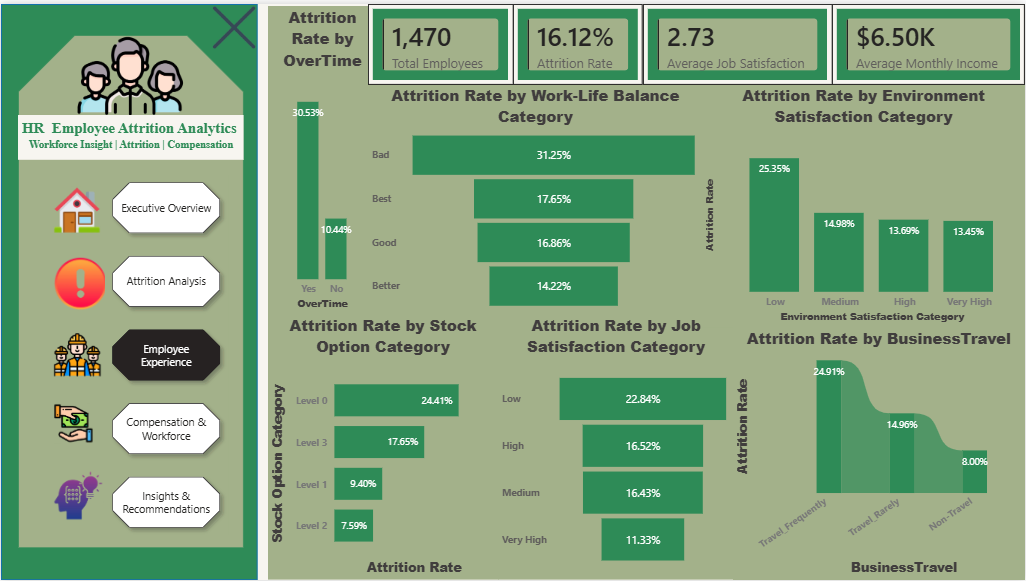

What the dashboard file says about the page in this screenshot:
{"tool":"powerbi","page":{"name":"Employee Experience","canvas":[1280,720],"ordinal":2},"visuals":[{"type":"columnChart","fields":{"Category":["employee_attrition.OverTime"],"Y":["DAX Measures.Attrition Rate"]},"box":[333.4,2.5,136.1,385.5],"z":0},{"type":"funnel","fields":{"Category":["employee_attrition.Job Satisfaction Category"],"Y":["DAX Measures.Attrition Rate"]},"box":[620.9,388.1,295.2,332.1],"z":1000},{"type":"columnChart","fields":{"Category":["employee_attrition.Environment Satisfaction Category"],"Y":["DAX Measures.Attrition Rate"]},"box":[876.2,100,403.8,303.8],"z":2000},{"type":"funnel","fields":{"Category":["employee_attrition.Work-Life Balance Category"],"Y":["DAX Measures.Attrition Rate"]},"box":[458.3,100.5,418.4,287.7],"z":3000},{"type":"ribbonChart","fields":{"Category":["employee_attrition.BusinessTravel"],"Y":["DAX Measures.Attrition Rate"]},"box":[915.3,403.3,364.7,316.6],"z":4000},{"type":"clusteredBarChart","fields":{"Category":["employee_attrition.Stock Option Category"],"Y":["DAX Measures.Attrition Rate"]},"box":[333.4,388.1,287.6,332.1],"z":5000},{"type":"cardVisual","fields":{"Data":["DAX Measures.Average Job Satisfaction"]},"box":[802.2,0,236.7,101.2],"z":6000},{"type":"cardVisual","fields":{"Data":["DAX Measures.Total Employees"]},"box":[458.4,0,181.6,101.2],"z":7000},{"type":"cardVisual","fields":{"Data":["DAX Measures.Attrition Rate"]},"box":[640,0,162.2,101.2],"z":8000},{"type":"cardVisual","fields":{"Data":["DAX Measures.Average Monthly Income"]},"box":[1038.9,0,241.1,101.2],"z":9000},{"type":"shape","box":[0,0,320.6,720.2],"z":10000},{"type":"shape","box":[20.6,38.5,282.2,641.4],"z":11000},{"type":"actionButton","title":"Overview","box":[61.2,223.8,78.8,67.5],"z":12000},{"type":"actionButton","title":"Overview","box":[61.1,578.9,77.6,71.3],"z":13000},{"type":"actionButton","title":"Overview","box":[61.1,495,68.7,58.5],"z":14000},{"type":"actionButton","title":"Overview","box":[61.1,403.3,76.3,68.7],"z":15000},{"type":"actionButton","title":"Overview","box":[61.2,311.2,78.8,76.2],"z":16000},{"type":"pageNavigator","box":[129.8,213.8,154,450.4],"z":17000},{"type":"image","box":[20.6,38.5,282.2,100.5],"z":18000},{"type":"image","box":[261.4,2.3,60.8,54.1],"z":20000},{"type":"textbox","box":[20.6,139,282.2,56.4],"z":21001}]}

Visuals, with their boxes in screenshot pixels (x1, y1, x2, y2), scaled from the page's 1280x720 canvas onto the 1026x581 screenshot:
columnChart - employee_attrition.OverTime x DAX Measures.Attrition Rate: [x1=267, y1=2, x2=376, y2=313]
funnel - employee_attrition.Job Satisfaction Category x DAX Measures.Attrition Rate: [x1=498, y1=313, x2=734, y2=580]
columnChart - employee_attrition.Environment Satisfaction Category x DAX Measures.Attrition Rate: [x1=702, y1=81, x2=1025, y2=326]
funnel - employee_attrition.Work-Life Balance Category x DAX Measures.Attrition Rate: [x1=367, y1=81, x2=703, y2=313]
ribbonChart - employee_attrition.BusinessTravel x DAX Measures.Attrition Rate: [x1=734, y1=325, x2=1025, y2=580]
clusteredBarChart - employee_attrition.Stock Option Category x DAX Measures.Attrition Rate: [x1=267, y1=313, x2=498, y2=580]
cardVisual - DAX Measures.Average Job Satisfaction: [x1=643, y1=0, x2=833, y2=82]
cardVisual - DAX Measures.Total Employees: [x1=367, y1=0, x2=513, y2=82]
cardVisual - DAX Measures.Attrition Rate: [x1=513, y1=0, x2=643, y2=82]
cardVisual - DAX Measures.Average Monthly Income: [x1=833, y1=0, x2=1025, y2=82]
shape: [x1=0, y1=0, x2=257, y2=580]
shape: [x1=17, y1=31, x2=243, y2=549]
"Overview" actionButton: [x1=49, y1=181, x2=112, y2=235]
"Overview" actionButton: [x1=49, y1=467, x2=111, y2=525]
"Overview" actionButton: [x1=49, y1=399, x2=104, y2=447]
"Overview" actionButton: [x1=49, y1=325, x2=110, y2=381]
"Overview" actionButton: [x1=49, y1=251, x2=112, y2=313]
pageNavigator: [x1=104, y1=173, x2=227, y2=536]
image: [x1=17, y1=31, x2=243, y2=112]
image: [x1=210, y1=2, x2=258, y2=46]
textbox: [x1=17, y1=112, x2=243, y2=158]
